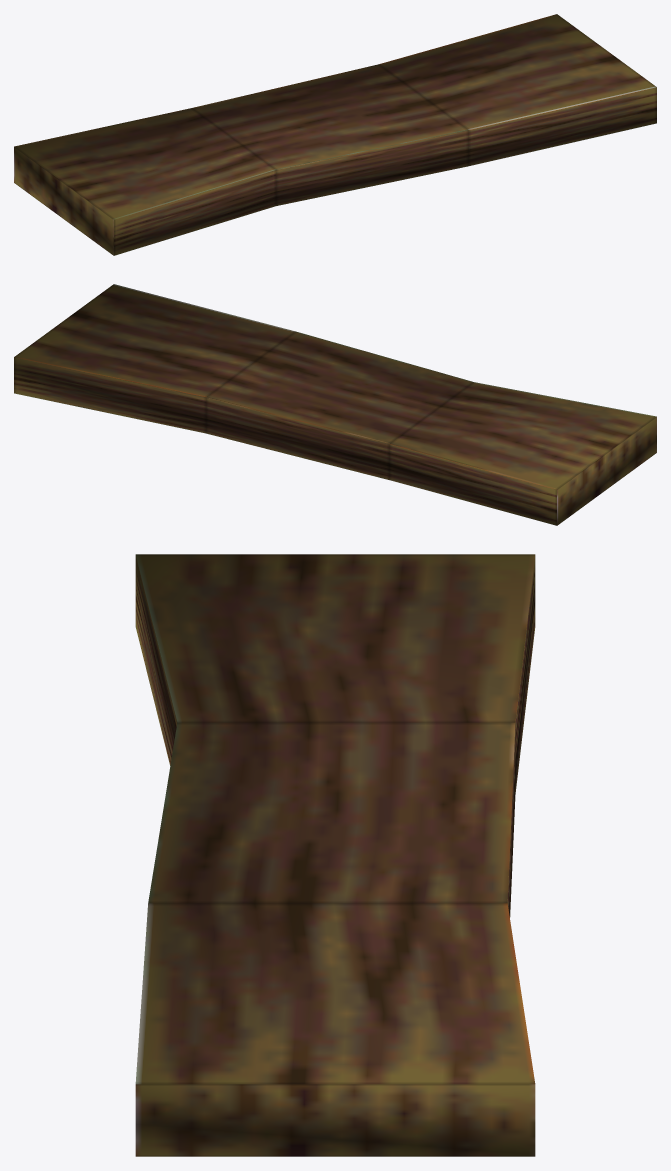
3 renders of one model, top to bottom at view 1: azimuth 30°, elevation 25°; view 2: azimuth 150°, elevation 25°; view 3: azimuth 270°, elevation 25°, orthographic. The views are drawn at different scales.
Parts seen in each view (by area): view 1: T1L8M005_14; view 2: T1L8M005_14; view 3: T1L8M005_14.
Boxes of the visible parts, box(x1,y1,x2,y2) form: T1L8M005_14: box(14, 14, 656, 255); T1L8M005_14: box(14, 284, 656, 525); T1L8M005_14: box(135, 554, 535, 1156).
Bounding box in the file's own units: 3.14 × 0.2002 × 1.
